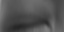LeftEyeFatigue: (2, 6, 55, 32)
